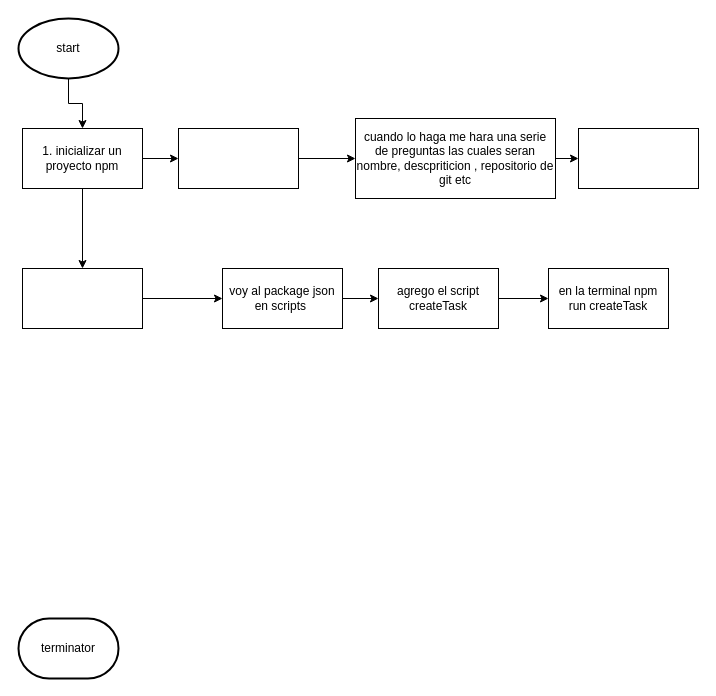
This 716x696 diagram has some shape labels left out. The shapes that lost their labels are listed below. From the top down, each one's centre as x and y in pixels, then its label:
(x=238, y=158): se hace en la terminal de comandos con npm init
(x=638, y=158): se me crrea un package json
(x=82, y=298): 2. Creacion de un script
